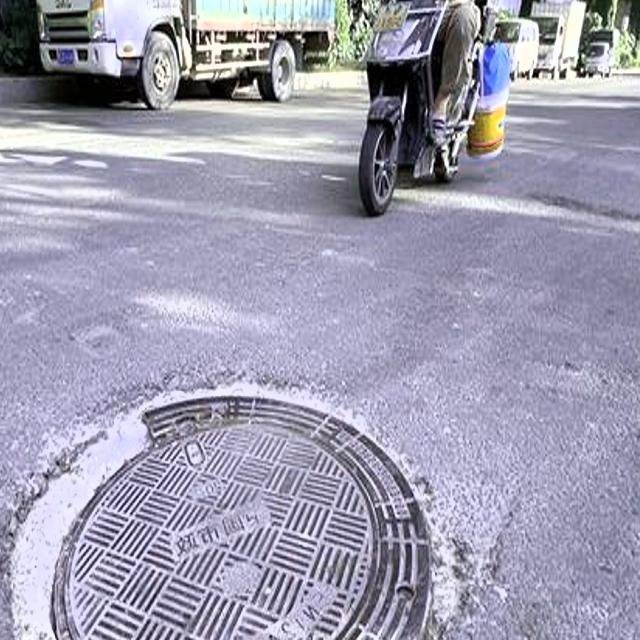circle: (0, 328, 515, 640)
